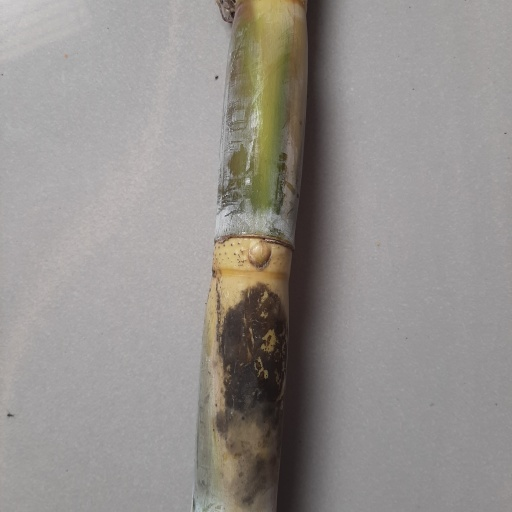Bud: (248, 239, 270, 269)
